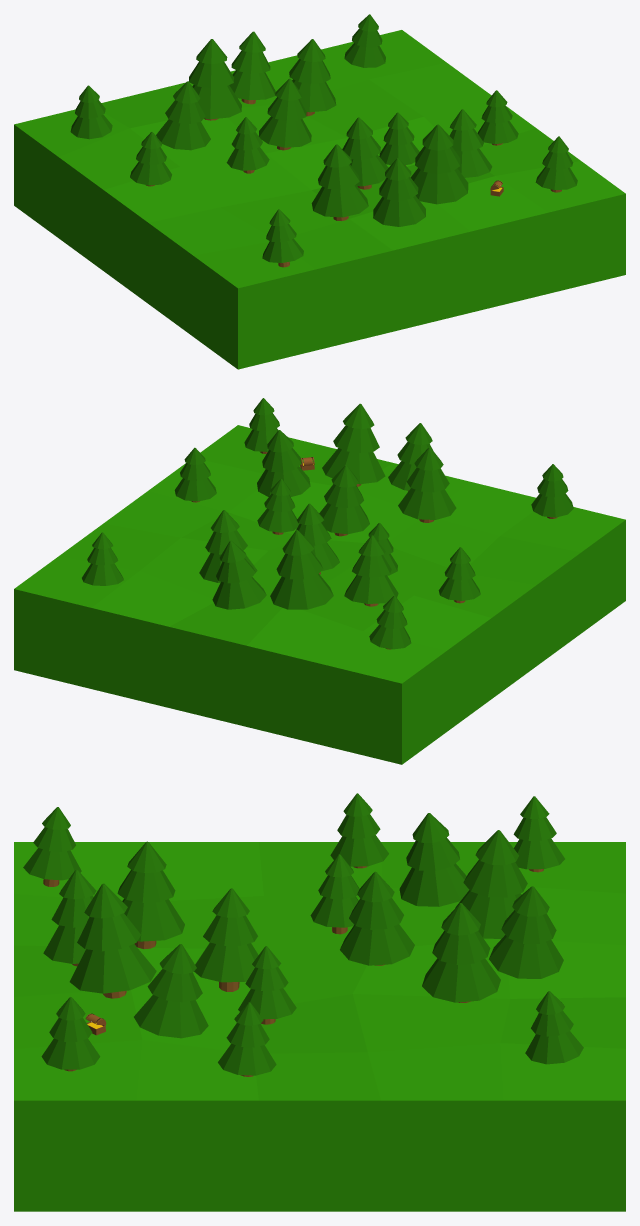
File: forest_001.fbx
3 views of the same model, one above another, from view 1: azimuth 30°, elevation 25°; view 2: azimuth 150°, elevation 25°; view 3: azimuth 270°, elevation 25° (orthographic). The views are drawn at different scales.
Parts seen in each view (by area): view 1: Cube, Cylinder.033, Cylinder.031, Cylinder.083, Cylinder.032, Cylinder.084, Cylinder.085, Cylinder.081, Cylinder.082, Cylinder.034, Cylinder.035, Cylinder.039 (+7 smaller); view 2: Cube, Cylinder.083, Cylinder.033, Cylinder.031, Cylinder.082, Cylinder.034, Cylinder.085, Cylinder.035, Cylinder.081, Cylinder.039, Cylinder.038, Cylinder.037 (+7 smaller); view 3: Cube, Cylinder.033, Cylinder.081, Cylinder.082, Cylinder.084, Cylinder.083, Cylinder.085, Cylinder.035, Cylinder.031, Cylinder.034, Cylinder.032, Cylinder.036 (+7 smaller).
Part boxes in pixels (left/top/right/bottom): Cube: left=14, top=30, right=625, bottom=369; Cylinder.033: left=411, top=124, right=468, bottom=204; Cylinder.031: left=311, top=144, right=368, bottom=220; Cylinder.083: left=188, top=39, right=241, bottom=120; Cylinder.032: left=373, top=158, right=425, bottom=226; Cylinder.084: left=259, top=78, right=311, bottom=150; Cylinder.085: left=156, top=81, right=210, bottom=150; Cylinder.081: left=289, top=39, right=336, bottom=116; Cylinder.082: left=229, top=31, right=275, bottom=104; Cylinder.034: left=342, top=117, right=388, bottom=189; Cylinder.035: left=449, top=109, right=492, bottom=177; Cylinder.039: left=262, top=209, right=303, bottom=267; Cube: left=14, top=425, right=625, bottom=764; Cylinder.083: left=270, top=530, right=333, bottom=609; Cylinder.033: left=322, top=403, right=385, bottom=486; Cylinder.031: left=398, top=447, right=456, bottom=522; Cylinder.082: left=212, top=540, right=266, bottom=609; Cylinder.034: left=319, top=465, right=369, bottom=536; Cylinder.085: left=344, top=535, right=398, bottom=606; Cylinder.035: left=257, top=430, right=310, bottom=496; Cylinder.081: left=199, top=510, right=257, bottom=582; Cylinder.039: left=531, top=464, right=573, bottom=518; Cylinder.038: left=174, top=447, right=216, bottom=502; Cylinder.037: left=257, top=479, right=299, bottom=534; Cube: left=14, top=842, right=625, bottom=1211; Cylinder.033: left=69, top=883, right=156, bottom=998; Cylinder.081: left=422, top=903, right=500, bottom=1002; Cylinder.082: left=489, top=886, right=563, bottom=978; Cylinder.084: left=340, top=871, right=414, bottom=965; Cylinder.083: left=455, top=830, right=527, bottom=938; Cylinder.085: left=399, top=813, right=469, bottom=906; Cylinder.035: left=134, top=944, right=208, bottom=1038; Cylinder.031: left=117, top=841, right=184, bottom=949; Cylinder.034: left=194, top=888, right=258, bottom=991; Cylinder.032: left=43, top=869, right=96, bottom=966; Cylinder.036: left=41, top=997, right=100, bottom=1071.
Size of the model in its own units: 200 by 80.76 by 200.
